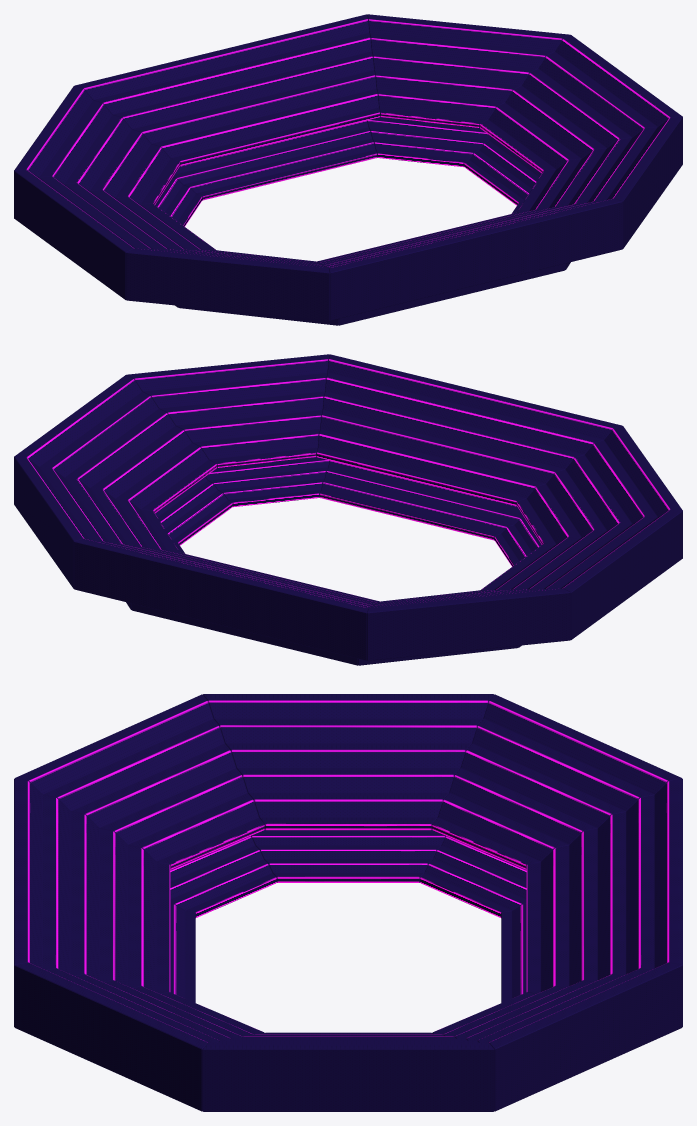
File: grandstand all.fbx
3 renders of one model, top to bottom at view 1: azimuth 30°, elevation 25°; view 2: azimuth 150°, elevation 25°; view 3: azimuth 270°, elevation 25°, orthographic. The views are drawn at different scales.
Parts seen in each view (by area): view 1: Floor2_Grand_stand3, Floor2_Grand_stand6, Floor2_Grand_stand4, Floor2_Grand_stand5, Floor2_Grand_stand7, Floor2_Grand_stand1, Floor2_Grand_stand2, Floor2_Grand_stand8, Floor1_Grand_stand3, Floor1_Grand_stand4, Floor1_Grand_stand5, Floor1_Grand_stand6 (+2 smaller); view 2: Floor2_Grand_stand6, Floor2_Grand_stand3, Floor2_Grand_stand8, Floor2_Grand_stand5, Floor2_Grand_stand2, Floor2_Grand_stand1, Floor2_Grand_stand7, Floor2_Grand_stand4, Floor1_Grand_stand6, Floor1_Grand_stand8, Floor1_Grand_stand5, Floor1_Grand_stand3 (+2 smaller); view 3: Floor2_Grand_stand1, Floor2_Grand_stand3, Floor2_Grand_stand6, Floor2_Grand_stand2, Floor2_Grand_stand7, Floor2_Grand_stand5, Floor2_Grand_stand4, Floor2_Grand_stand8, Floor1_Grand_stand1, Floor1_Grand_stand2, Floor1_Grand_stand7, Floor1_Grand_stand3 (+1 smaller).
Boxes of the visible parts, x1,y1,x2,y2 form: Floor2_Grand_stand3: [74, 14, 380, 165]; Floor2_Grand_stand6: [317, 198, 622, 320]; Floor2_Grand_stand4: [367, 14, 570, 128]; Floor2_Grand_stand5: [480, 35, 682, 173]; Floor2_Grand_stand7: [126, 248, 329, 320]; Floor2_Grand_stand1: [14, 170, 216, 299]; Floor2_Grand_stand2: [14, 86, 179, 204]; Floor2_Grand_stand8: [517, 116, 682, 248]; Floor1_Grand_stand3: [173, 120, 377, 200]; Floor1_Grand_stand4: [367, 117, 491, 166]; Floor1_Grand_stand5: [464, 137, 541, 205]; Floor1_Grand_stand6: [338, 263, 565, 325]; Floor2_Grand_stand6: [316, 354, 622, 505]; Floor2_Grand_stand3: [74, 538, 379, 660]; Floor2_Grand_stand8: [126, 354, 329, 468]; Floor2_Grand_stand5: [14, 375, 216, 513]; Floor2_Grand_stand2: [367, 588, 570, 660]; Floor2_Grand_stand1: [480, 510, 682, 639]; Floor2_Grand_stand7: [517, 426, 682, 544]; Floor2_Grand_stand4: [14, 456, 179, 588]; Floor1_Grand_stand6: [319, 460, 523, 540]; Floor1_Grand_stand8: [205, 457, 329, 506]; Floor1_Grand_stand5: [155, 477, 232, 545]; Floor1_Grand_stand3: [131, 603, 358, 665]; Floor2_Grand_stand1: [203, 694, 493, 830]; Floor2_Grand_stand3: [526, 778, 682, 1026]; Floor2_Grand_stand6: [14, 778, 170, 1026]; Floor2_Grand_stand2: [432, 694, 681, 869]; Floor2_Grand_stand7: [15, 694, 264, 869]; Floor2_Grand_stand5: [202, 1032, 494, 1111]; Floor2_Grand_stand4: [432, 962, 682, 1111]; Floor2_Grand_stand8: [14, 962, 264, 1111]; Floor1_Grand_stand1: [251, 830, 445, 882]; Floor1_Grand_stand2: [420, 836, 526, 917]; Floor1_Grand_stand7: [170, 836, 276, 917]; Floor1_Grand_stand3: [501, 904, 526, 1002].
Bounding box in the file's own units: 304 × 41.01 × 241.
6 materials, 6 textured.
